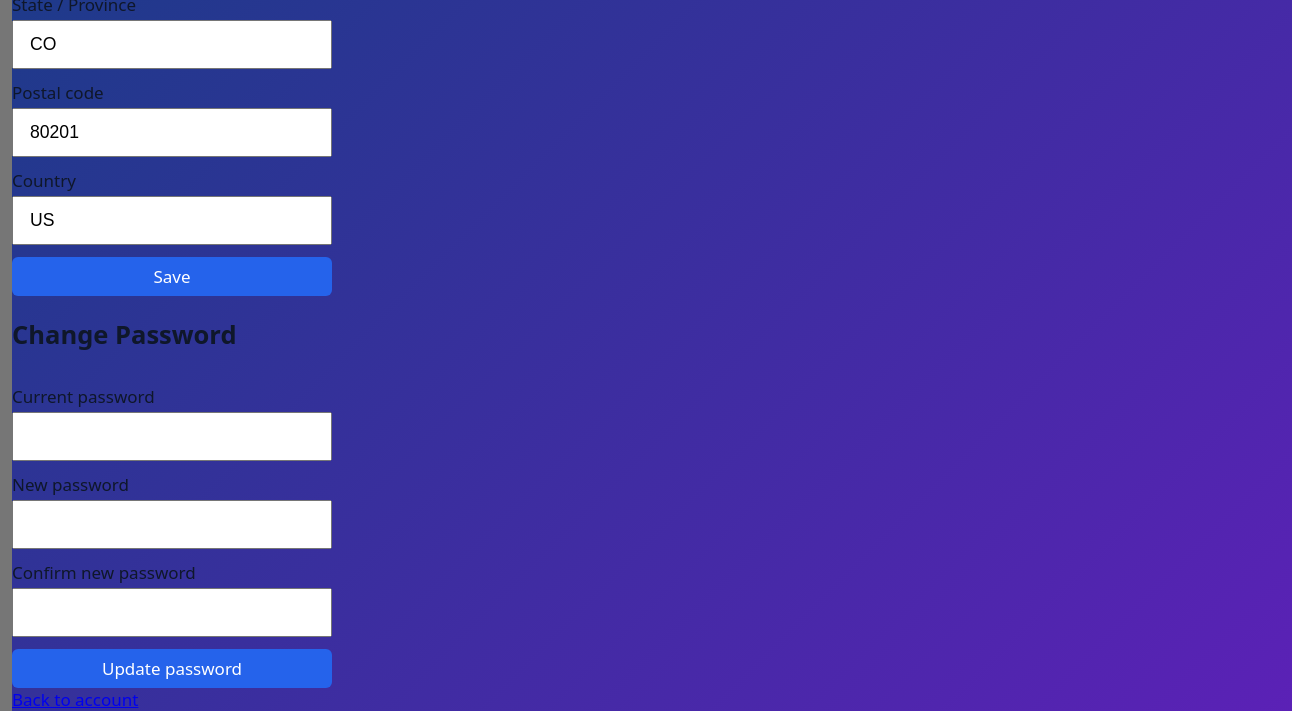
EditProfileView › Change Password › shows success message after password change
The image size is (1292, 711).
(page scrolled)
Type "oldpass1" into the password field labelled "Current password".
click(172, 436); type("oldpass1")  # box [12,412,332,461]
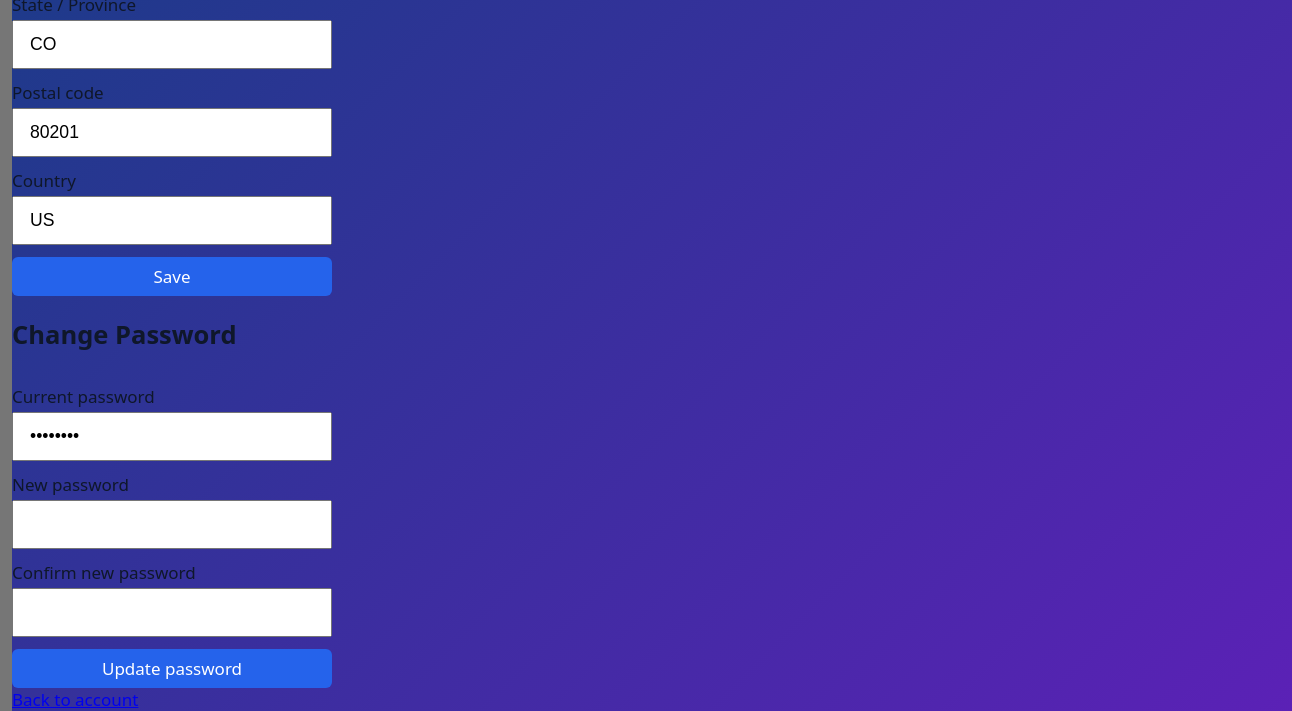
Type "newpass123" into the password field labelled "New password".
click(172, 524); type("newpass123")  # box [12,500,332,549]
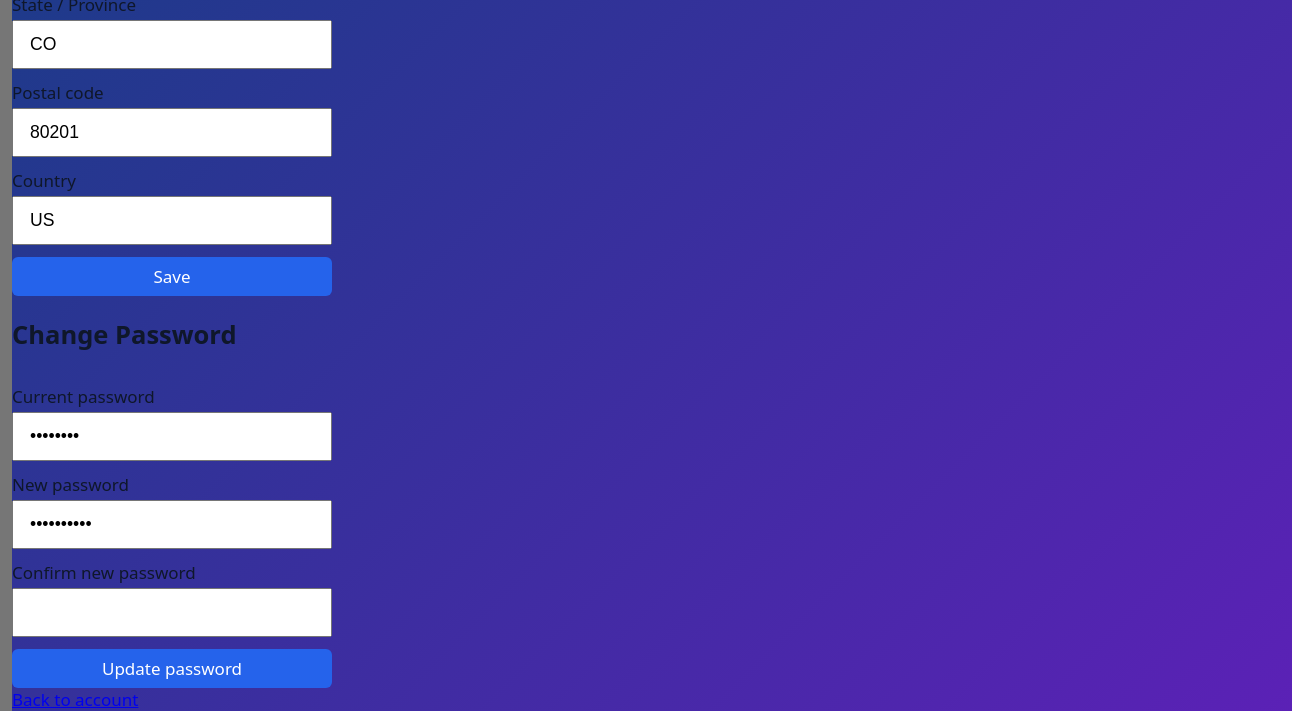
Type "newpass123" into the password field labelled "Confirm new password".
click(172, 612); type("newpass123")  # box [12,588,332,637]
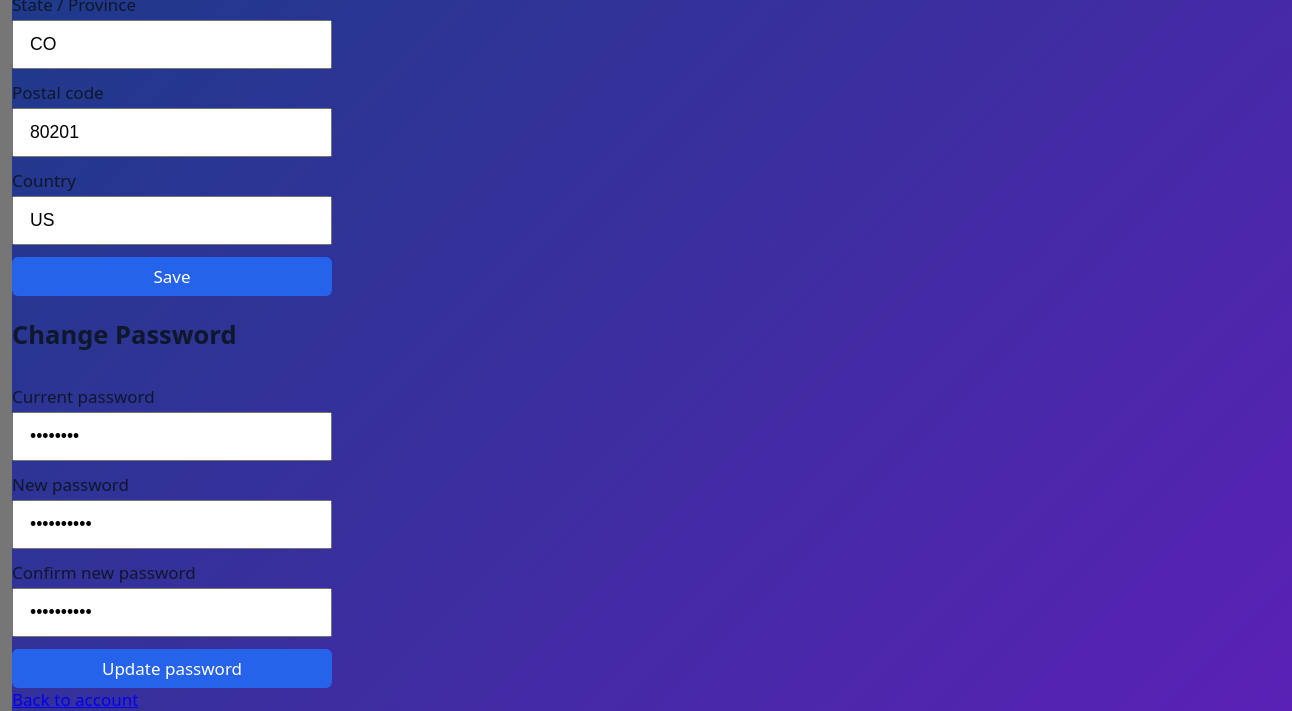
Submit the form that starts with "Change Password", box [12,296,332,688]
(page scrolled)
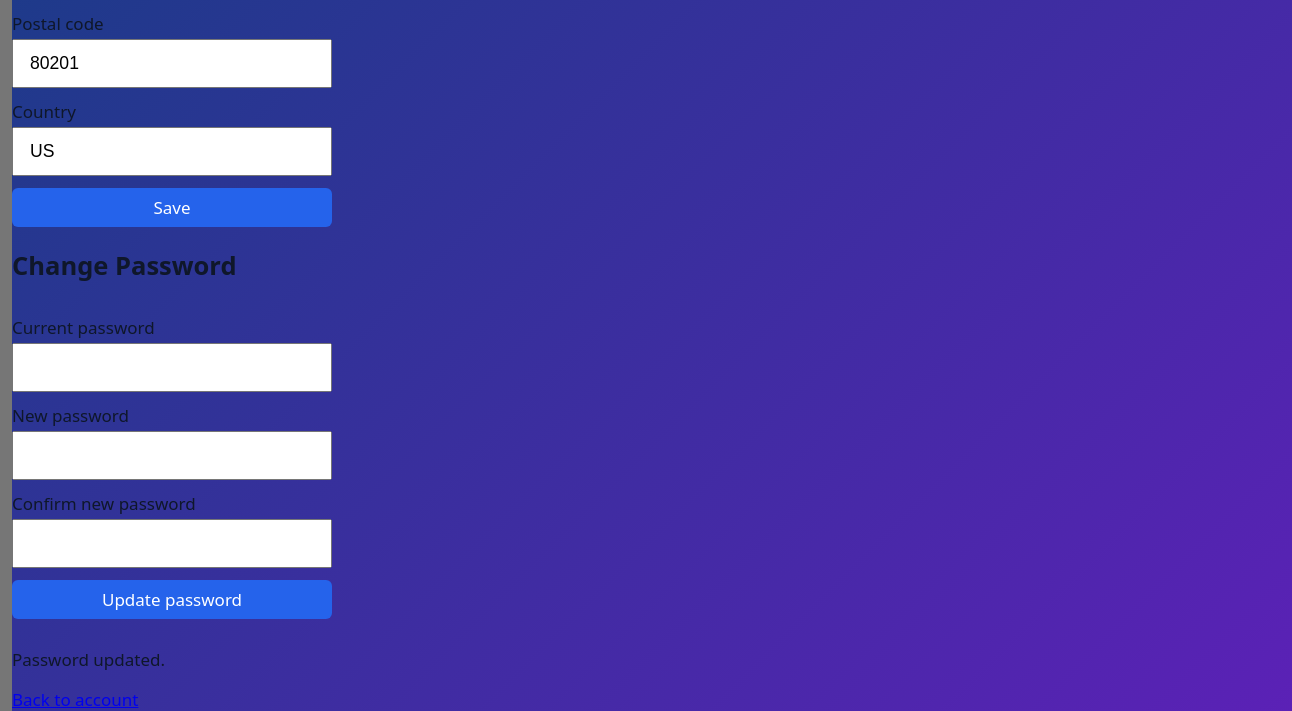
Check: the text "Password updated." is shown, box [12,648,165,671]
